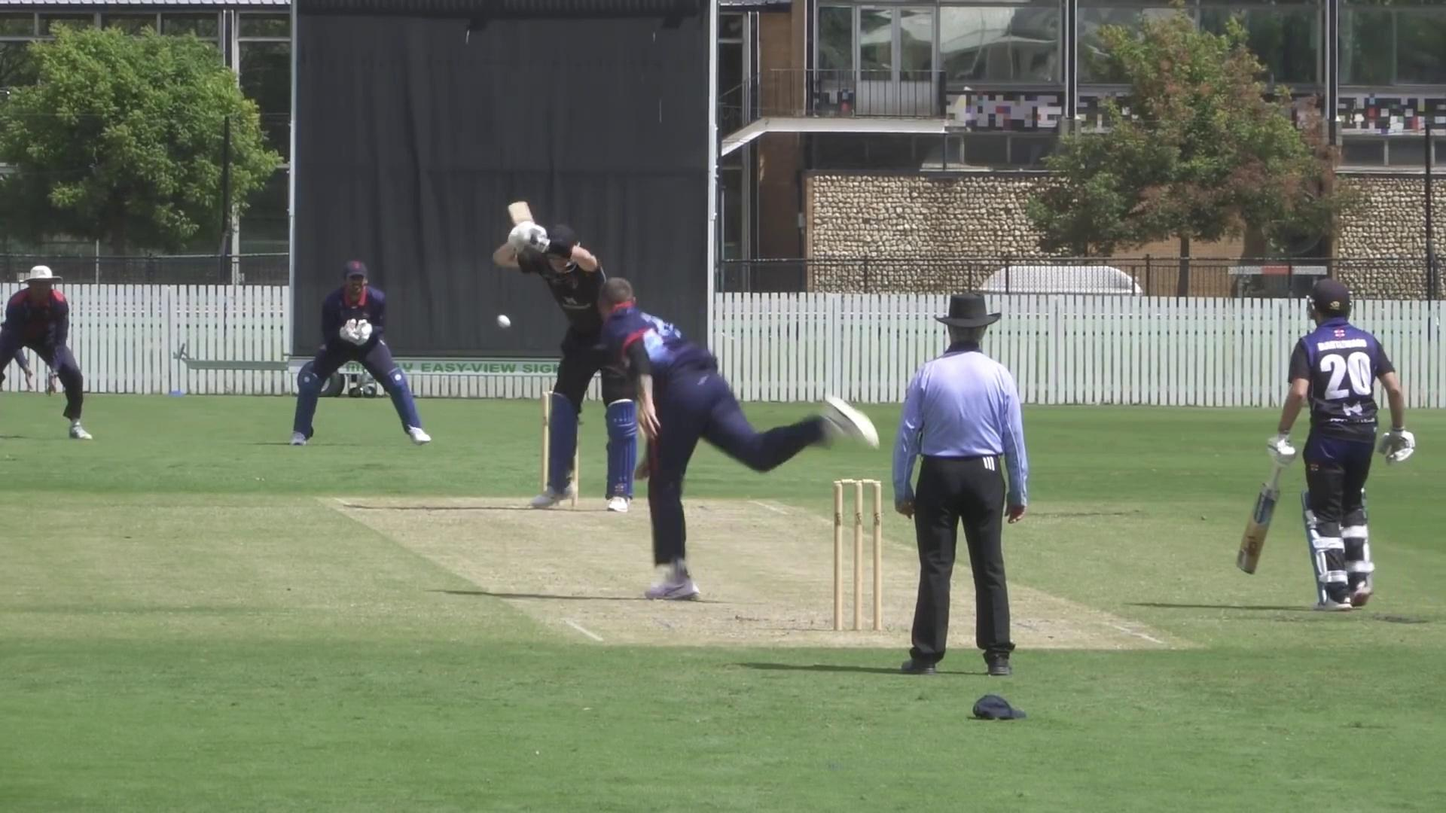ball: (495, 313, 514, 331)
